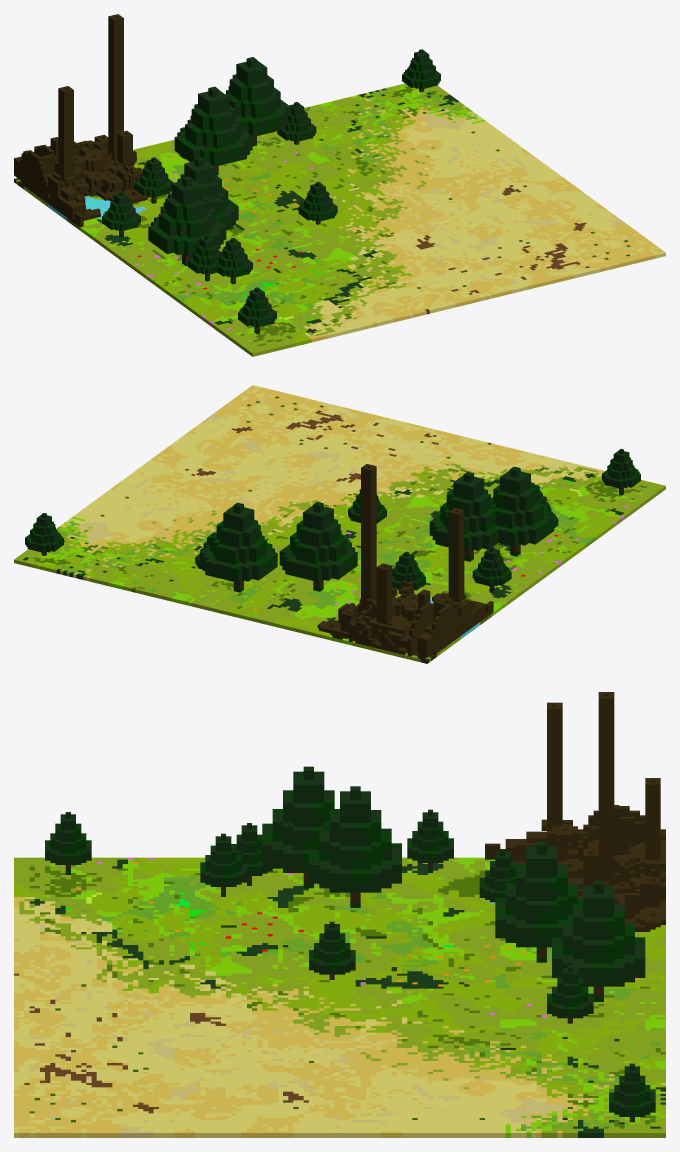
3 views of the same model, one above another, from view 1: azimuth 30°, elevation 25°; view 2: azimuth 150°, elevation 25°; view 3: azimuth 270°, elevation 25° (orthographic). The views are drawn at different scales.
Parts seen in each view (by area): view 1: da——di——tu-1; view 2: da——di——tu-1; view 3: da——di——tu-1.
Boxes of the visible parts, <box> form: da——di——tu-1: <box>14,14,665,356</box>; da——di——tu-1: <box>14,385,665,663</box>; da——di——tu-1: <box>14,692,665,1137</box>.
Bounding box in the file's own units: 126 × 47 × 126.
Materials: 1 (1 with a texture image).
